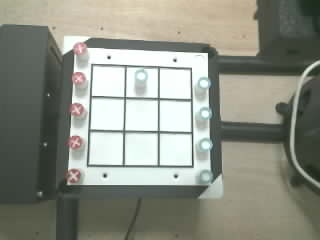blue circle: (198, 138, 212, 151), (200, 170, 213, 183), (135, 69, 147, 82), (200, 107, 212, 119), (197, 77, 210, 88)
board: (67, 47, 214, 185)
cells: (89, 132, 122, 164), (125, 133, 157, 165), (90, 98, 123, 129), (160, 134, 191, 165), (160, 100, 191, 131), (125, 100, 157, 130), (92, 66, 124, 96), (126, 67, 157, 97), (160, 68, 190, 98)
grid: (87, 64, 193, 167)
red cross: (66, 169, 80, 183), (69, 103, 84, 116), (68, 136, 82, 149), (72, 72, 85, 84), (73, 42, 86, 54)
